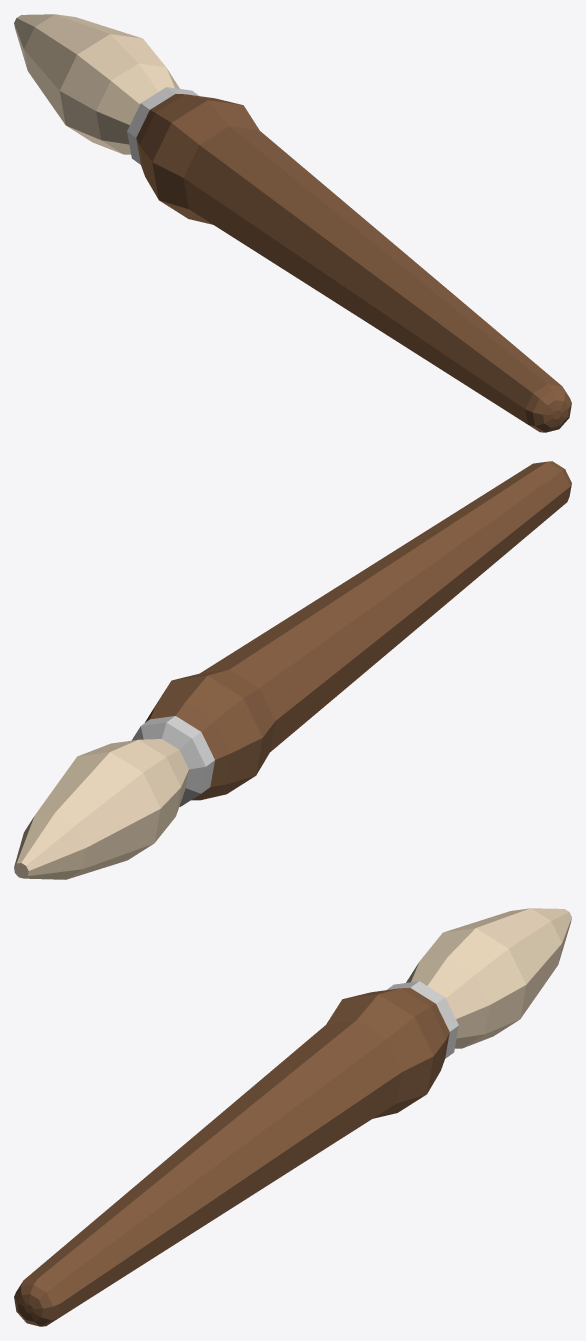
File: verftkwast.fbx
The picture shows the model from 3 angles, top to bottom: view 1: azimuth 30°, elevation 25°; view 2: azimuth 150°, elevation 25°; view 3: azimuth 330°, elevation 25°; orthographic projection.
Visible parts, largest first — view 1: Cylinder.002; view 2: Cylinder.002; view 3: Cylinder.002.
Part boxes in pixels (box(x1,y1,x2,y2)): Cylinder.002: box(14, 14, 571, 432); Cylinder.002: box(14, 461, 571, 879); Cylinder.002: box(14, 908, 571, 1326).
Bounding box in the file's own units: 1.56 × 1.53 × 13.06.
